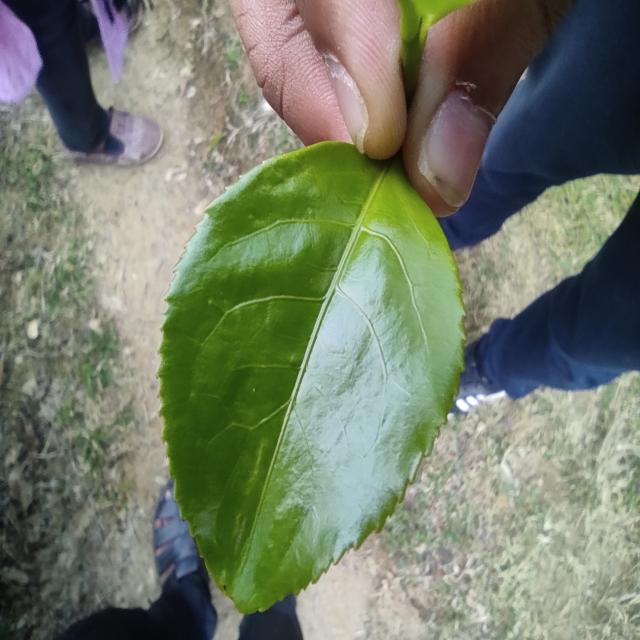Category C(4-7 days): (130, 107, 486, 640)
